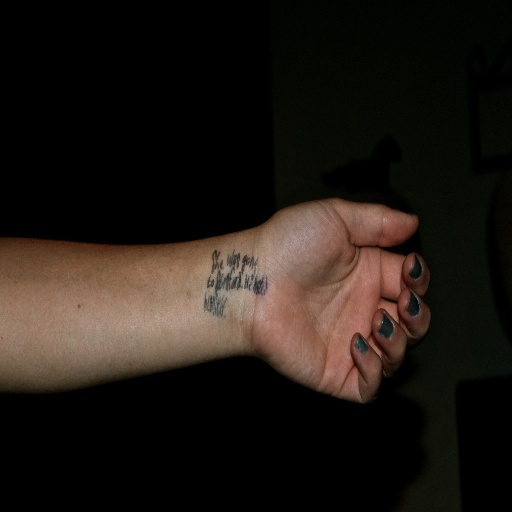hand: (0, 137, 476, 433)
